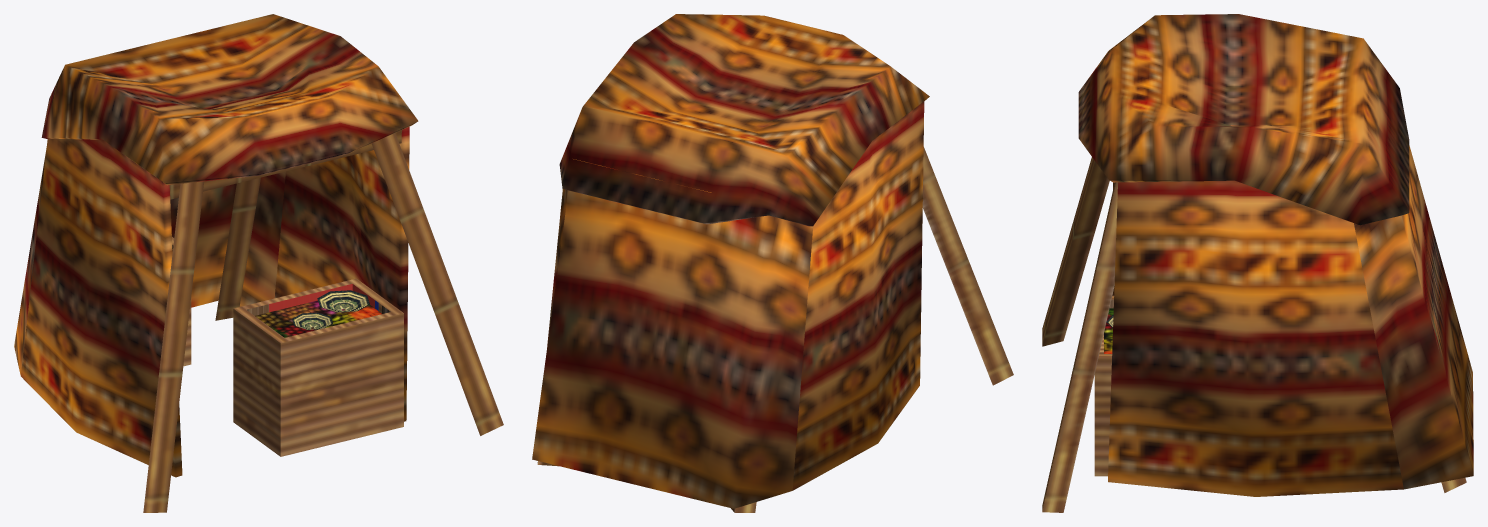
File: market_stall.dae
The picture shows the model from 3 angles, left to right: view 1: azimuth 30°, elevation 25°; view 2: azimuth 150°, elevation 25°; view 3: azimuth 270°, elevation 25°; orthographic projection. The views are drawn at different scales.
Visible parts, largest first — view 1: Cube.002; view 2: Cube.002; view 3: Cube.002.
Part boxes in pixels (left/top/right/bottom): Cube.002: left=14, top=14, right=503, bottom=512; Cube.002: left=532, top=14, right=1013, bottom=512; Cube.002: left=1042, top=14, right=1473, bottom=512.
Size of the model in its own units: 5.85 by 5.83 by 5.46.
